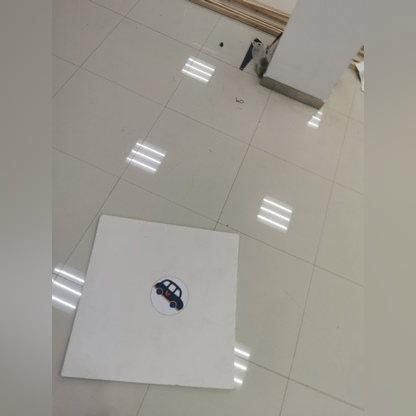car: (146, 272, 197, 323)
